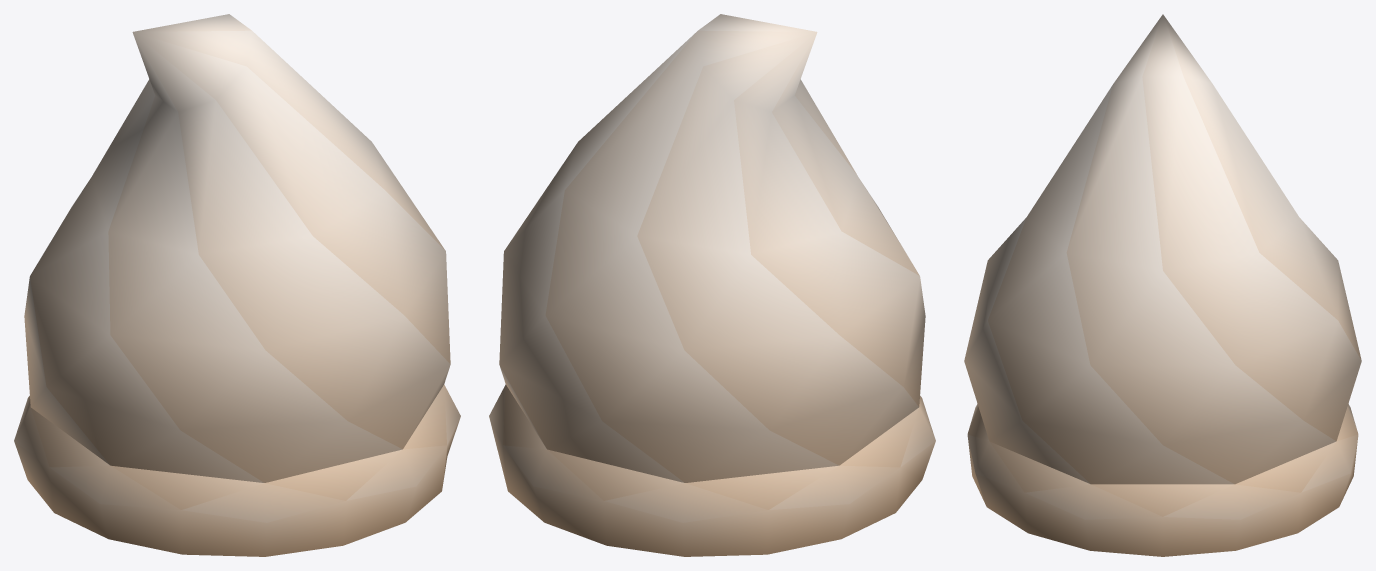
File: icecream_softserve_icecream_vanilla.fbx
The picture shows the model from 3 angles, left to right: view 1: azimuth 30°, elevation 25°; view 2: azimuth 150°, elevation 25°; view 3: azimuth 270°, elevation 25°; orthographic projection. The views are drawn at different scales.
Visible parts, largest first — view 1: icecream_softserve_icecream_vanilla; view 2: icecream_softserve_icecream_vanilla; view 3: icecream_softserve_icecream_vanilla.
Part boxes in pixels (<box>): icecream_softserve_icecream_vanilla: <box>14,14,460,556</box>; icecream_softserve_icecream_vanilla: <box>489,14,935,556</box>; icecream_softserve_icecream_vanilla: <box>964,14,1361,556</box>.
Bounding box in the file's own units: 0.4499 × 0.5359 × 0.45.
